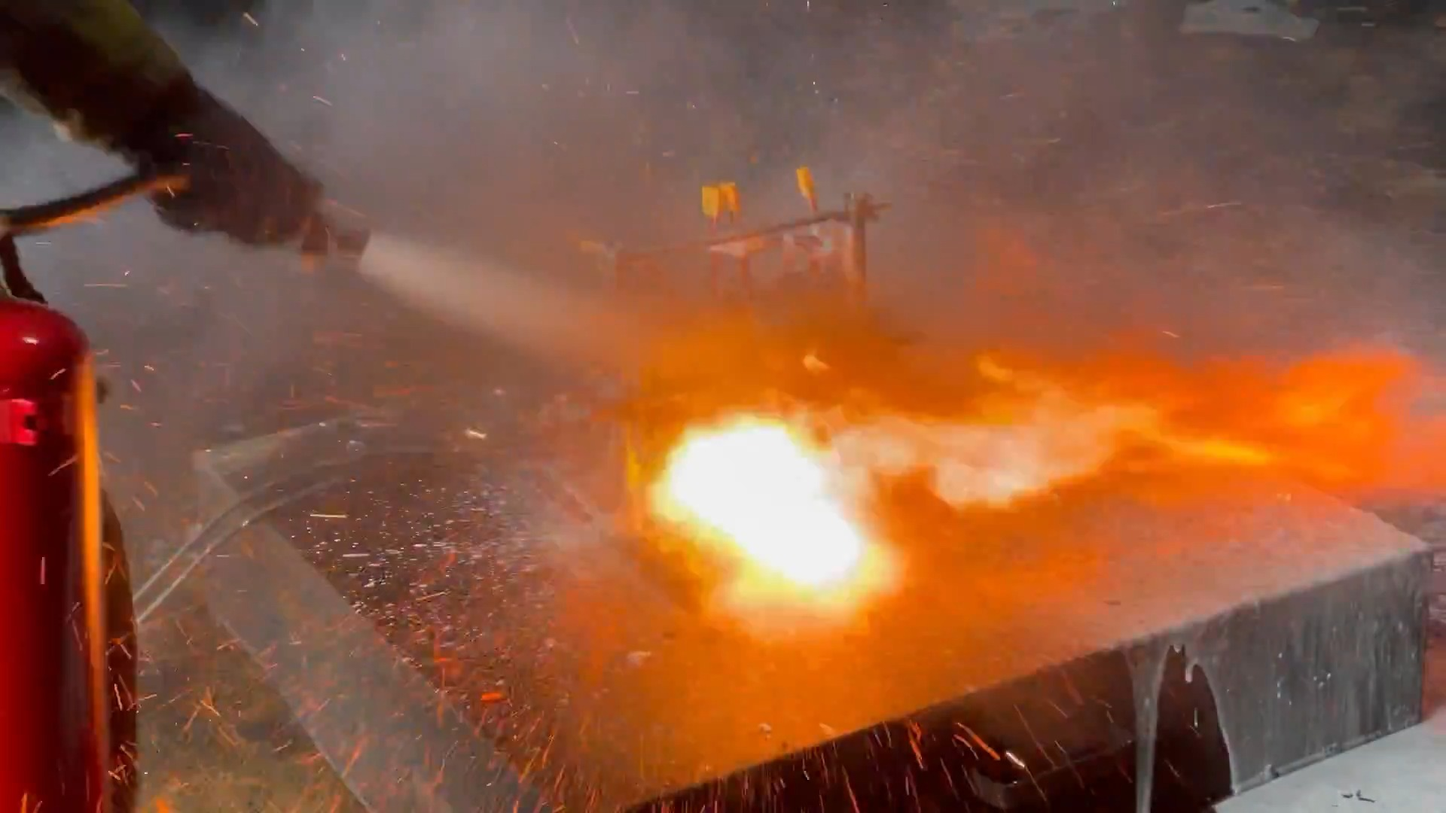fire: (628, 347, 1445, 641)
smoke: (410, 0, 1445, 373)
